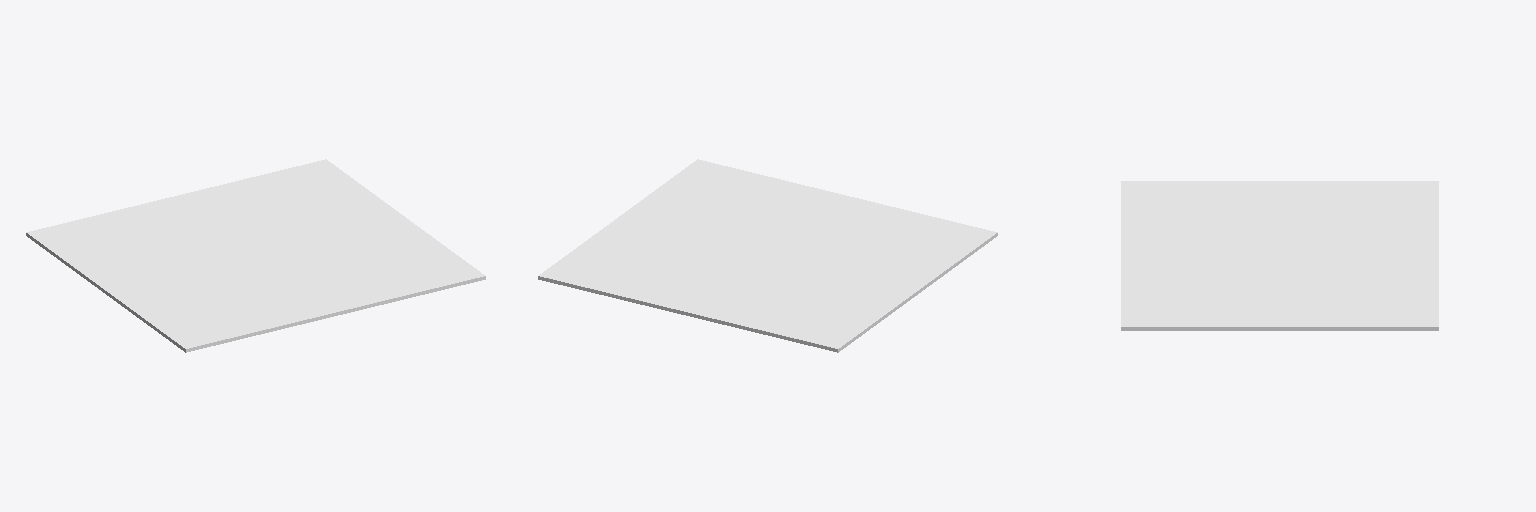
Rendered from parking-0.obj.
3 views of the same model, side by side, from view 1: azimuth 30°, elevation 25°; view 2: azimuth 150°, elevation 25°; view 3: azimuth 270°, elevation 25° (orthographic).
Visible parts, largest first — view 1: object 1; view 2: object 1; view 3: object 1.
Boxes of the visible parts, x1=… form: object 1: x1=26, y1=159, x2=485, y2=352; object 1: x1=538, y1=159, x2=997, y2=352; object 1: x1=1121, y1=181, x2=1438, y2=330.
Bounding box in the file's own units: 17.6 × 0.2 × 16.2.